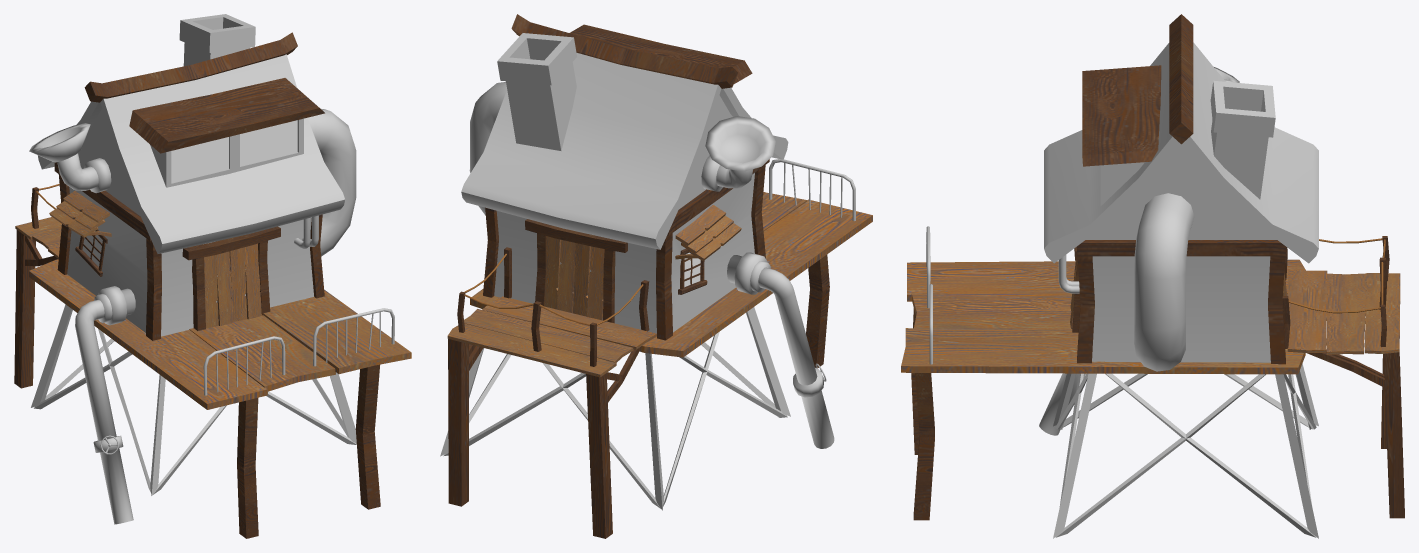
File: Platform House.fbx
The picture shows the model from 3 angles, left to right: view 1: azimuth 30°, elevation 25°; view 2: azimuth 150°, elevation 25°; view 3: azimuth 270°, elevation 25°; orthographic projection. The views are drawn at different scales.
Visible parts, largest first — view 1: Cube.052, Cube.073, Cube.051, Cube.072, Cube.050, Cube.075, Pipe Adapter.011, Cube.048, Cube.071, Cube.049, Pipe Elbow.005, Cube.074 (+5 smaller); view 2: Cube.052, Cube.049, Cube.072, Cube.073, Cube.050, Cube.074, Cube.048, Cube.082, Pipe Adapter.011, Pipe Adapter.010, Cube.051, Cube.076 (+4 smaller); view 3: Cube.073, Cube.072, Cube.052, Cube.049, Cube.048, Cube.050, Pipe Elbow.005, Cube.051, Cube.074, Cube.071, Pipe Adapter.011.
Part boxes in pixels (x1,y1,x2,y2): Cube.052: (38, 54, 345, 253); Cube.073: (29, 259, 411, 409); Cube.051: (129, 78, 324, 187); Cube.072: (67, 109, 313, 336); Cube.050: (54, 32, 324, 340); Cube.075: (182, 226, 280, 330); Pipe Adapter.011: (75, 286, 135, 524); Cube.048: (31, 304, 356, 495); Cube.071: (237, 364, 380, 538); Cube.049: (14, 217, 61, 388); Pipe Elbow.005: (307, 109, 356, 256); Cube.074: (179, 14, 255, 66); Cube.052: (461, 53, 788, 249); Cube.049: (447, 296, 656, 538); Cube.072: (494, 95, 754, 333); Cube.073: (470, 192, 872, 357); Cube.050: (483, 14, 769, 340); Cube.074: (497, 33, 576, 150); Cube.048: (440, 307, 790, 510); Cube.082: (525, 219, 627, 323); Pipe Adapter.011: (727, 252, 834, 448); Pipe Adapter.010: (701, 116, 775, 191); Cube.051: (569, 24, 752, 83); Cube.076: (675, 205, 741, 260); Cube.073: (901, 259, 1305, 374); Cube.072: (1086, 143, 1276, 362); Cube.052: (1044, 42, 1318, 263); Cube.049: (1287, 270, 1404, 518); Cube.048: (1053, 363, 1318, 538); Cube.050: (1077, 14, 1286, 364); Pipe Elbow.005: (1134, 193, 1194, 371); Cube.051: (1082, 65, 1161, 205); Cube.074: (1210, 80, 1275, 199); Cube.071: (911, 308, 934, 520); Pipe Adapter.011: (1039, 373, 1085, 435).
Size of the model in its own units: 766 by 972 by 1010.
